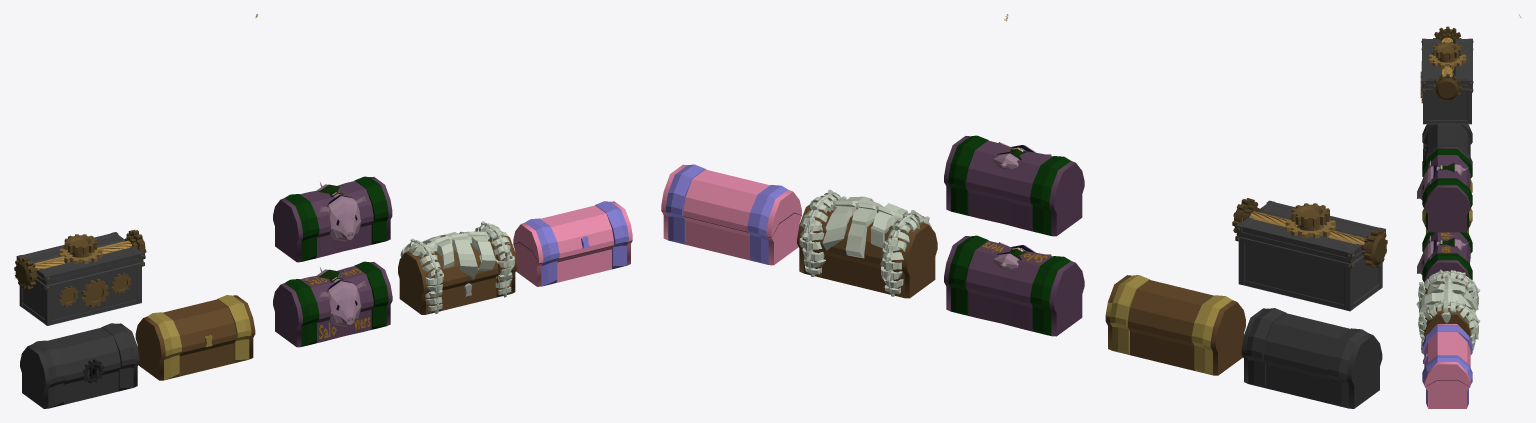
Rendered from all_chest.fbx.
3 views of the same model, side by side, from view 1: azimuth 30°, elevation 25°; view 2: azimuth 150°, elevation 25°; view 3: azimuth 270°, elevation 25° (orthographic). The views are drawn at different scales.
Visible parts, largest first — view 1: Gear.004, Salovier.004, Сундук.004, Сундук.003, Сундук.002, Сундук.005, Сундук.001, Куб.001, Куб.008; view 2: Gear.004, Сундук.004, Salovier.004, Сундук.005, Сундук.002, Сундук.003, Сундук.001, Куб.001, Куб.008; view 3: Gear.004, Сундук.004, Сундук.002, Salovier.004, Куб.001, Сундук.005, Куб.008, Сундук.001, Сундук.003.
Boxes of the visible parts, x1,y1,x2,y2 form: Gear.004: (14, 229, 146, 325); Salovier.004: (273, 261, 392, 347); Сундук.004: (273, 176, 392, 262); Сундук.003: (135, 295, 255, 380); Сундук.002: (513, 201, 632, 286); Сундук.005: (20, 323, 139, 408); Сундук.001: (398, 231, 517, 314); Куб.001: (400, 221, 514, 313); Куб.008: (423, 231, 507, 280); Gear.004: (1232, 198, 1387, 311); Сундук.004: (944, 135, 1084, 236); Salovier.004: (944, 235, 1084, 336); Сундук.005: (1241, 308, 1382, 408); Сундук.002: (661, 164, 801, 265); Сундук.003: (1105, 275, 1245, 375); Сундук.001: (797, 200, 937, 298); Куб.001: (799, 189, 931, 296); Куб.008: (810, 196, 907, 258); Gear.004: (1420, 26, 1473, 124); Сундук.004: (1417, 147, 1472, 232); Сундук.002: (1422, 324, 1472, 408); Salovier.004: (1417, 232, 1472, 282); Куб.001: (1418, 269, 1480, 353); Сундук.005: (1422, 124, 1472, 167); Куб.008: (1416, 274, 1476, 323); Сундук.001: (1423, 276, 1472, 337); Сундук.003: (1422, 179, 1472, 233).
Size of the model in its own units: 3097 by 1449 by 534.
